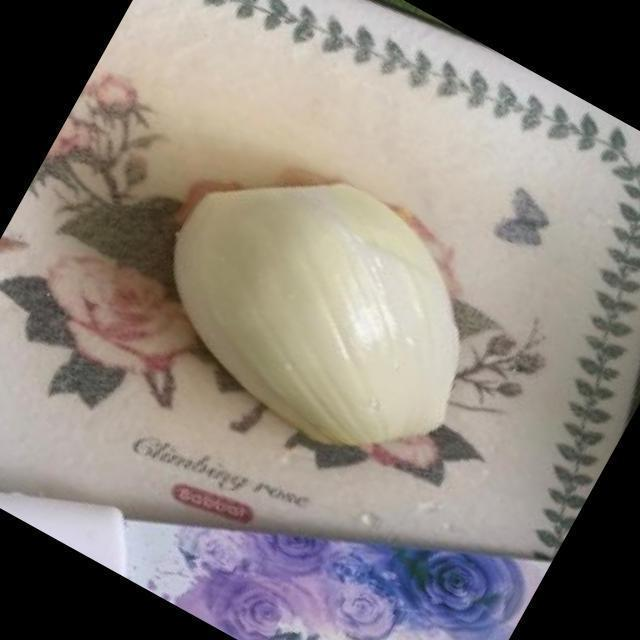Onion: (136, 135, 528, 493)
